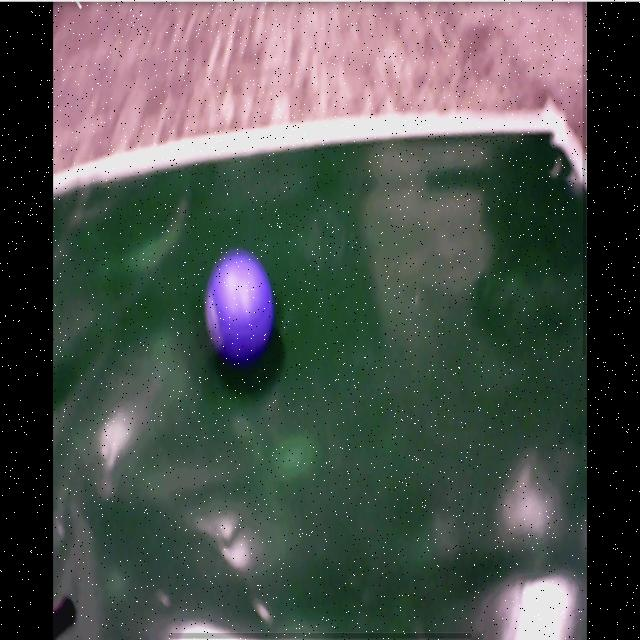ball: (205, 255, 276, 361)
